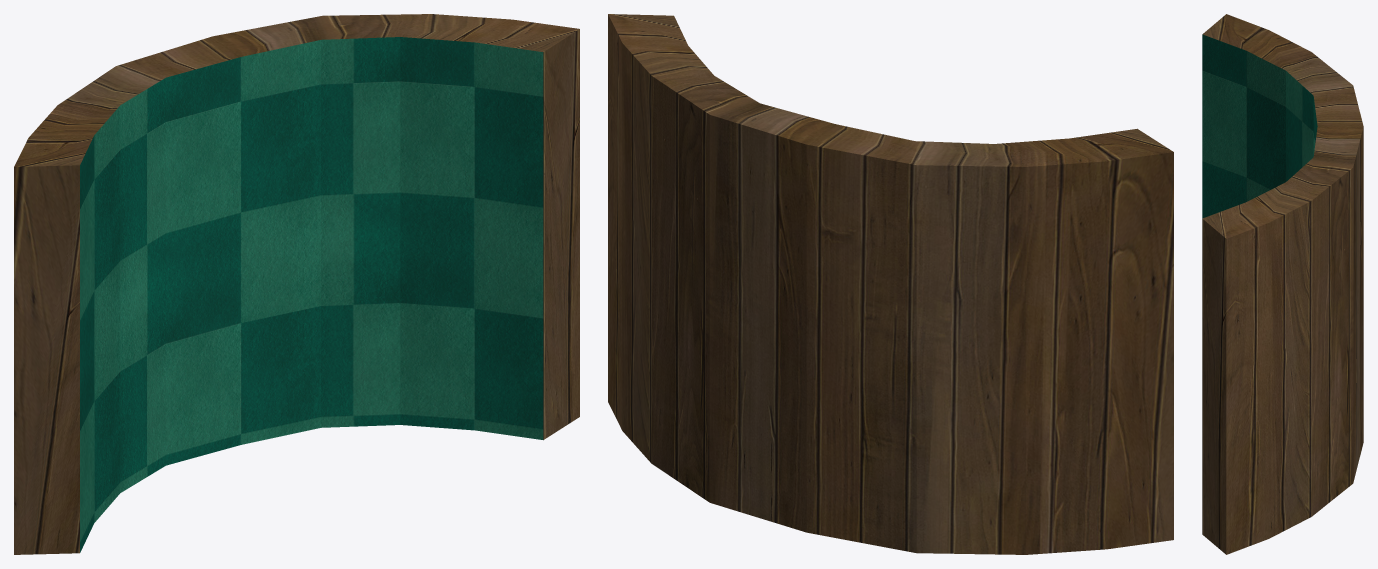
File: Wall2.gltf
The picture shows the model from 3 angles, left to right: view 1: azimuth 30°, elevation 25°; view 2: azimuth 150°, elevation 25°; view 3: azimuth 270°, elevation 25°; orthographic projection. The views are drawn at different scales.
Parts seen in each view (by area): view 1: Wall2_glb; view 2: Wall2_glb; view 3: Wall2_glb.
Boxes of the visible parts, box(x1,y1,x2,y2) form: Wall2_glb: box(14, 14, 579, 554); Wall2_glb: box(608, 14, 1173, 554); Wall2_glb: box(1202, 14, 1363, 554).
Size of what is drawn, in the model's own units: 10.08 by 6.61 by 3.05.
2 materials, 2 textured.
